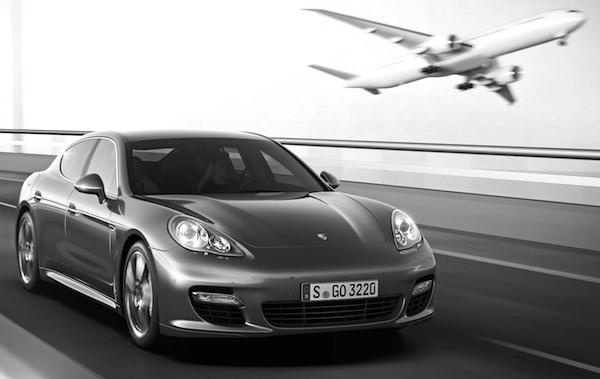car: (15, 129, 440, 355)
